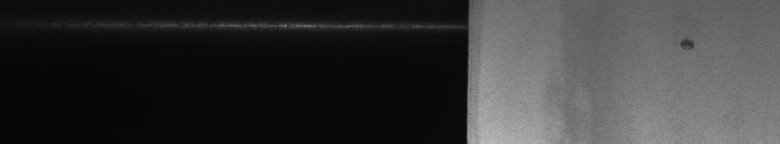fi: (677, 32, 700, 56)
